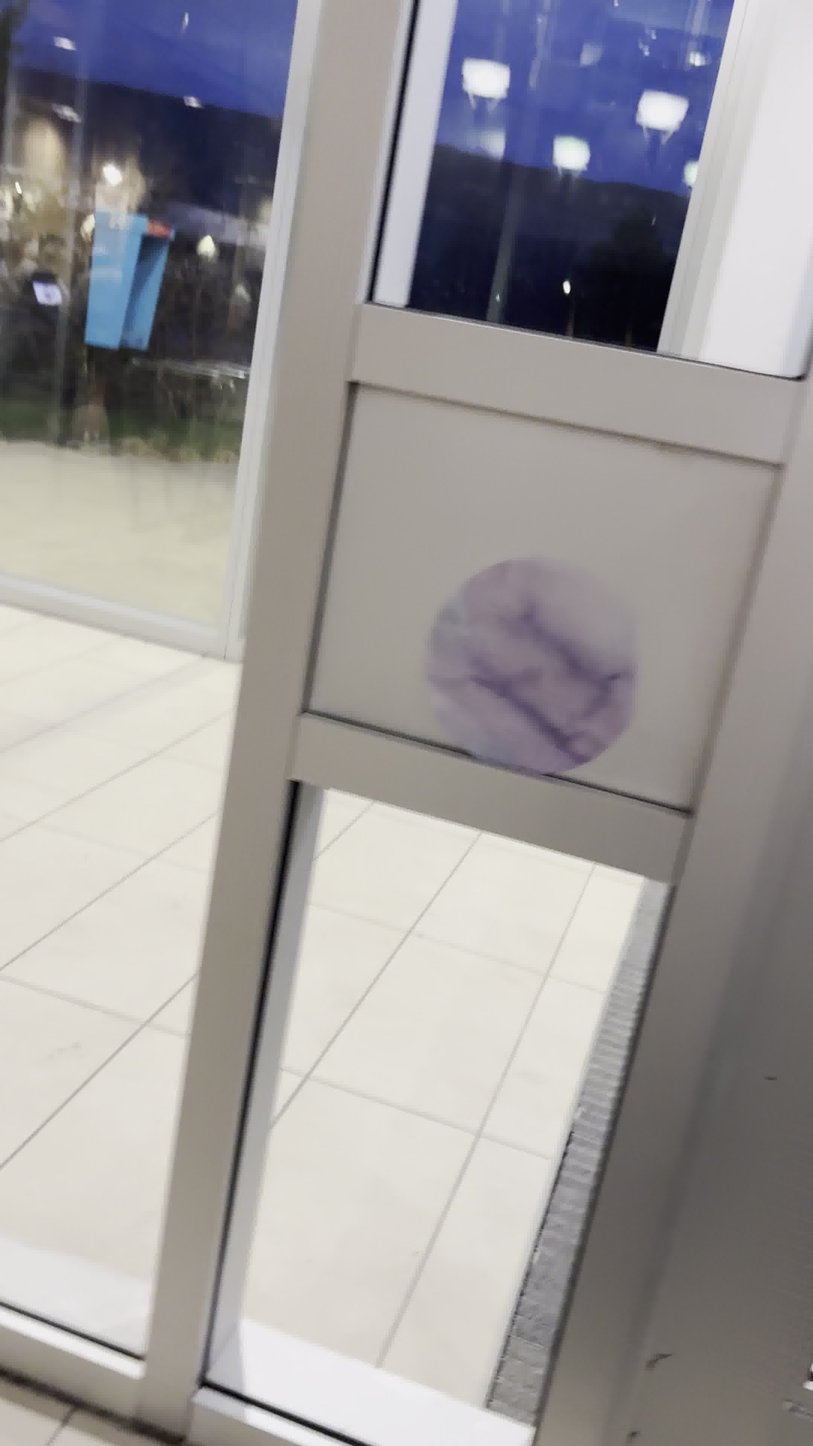Target: (417, 551, 644, 776)
